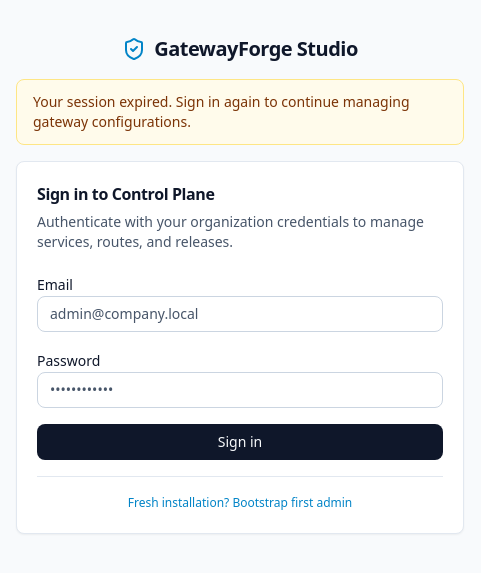
Test: LoginForm › shows session-expired notice and validates empty fields
Expected: the message shows "session expired", x1=33 y1=92 x2=410 y2=130
Click the button "Sign in" at {"x": 240, "y": 442}, box x1=37 y1=424 x2=443 y2=460
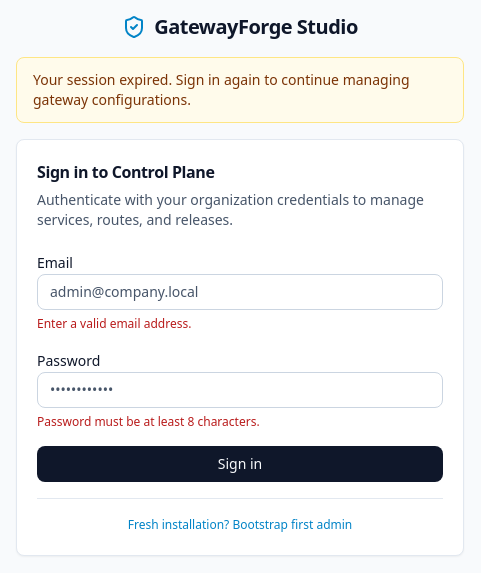
Expected: the text "Enter a valid email address." is shown, x1=37 y1=314 x2=191 y2=332
Expected: the text "Password must be at least 8 characters." is shown, x1=37 y1=412 x2=260 y2=430
